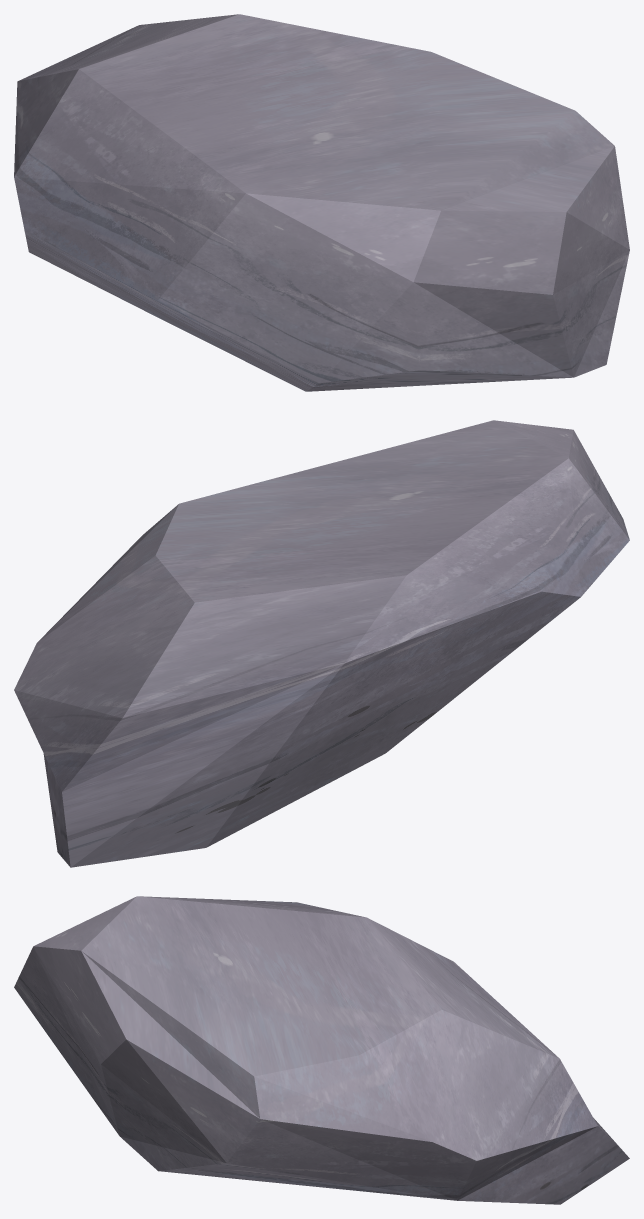
File: rock_2_013.fbx
3 views of the same model, one above another, from view 1: azimuth 30°, elevation 25°; view 2: azimuth 150°, elevation 25°; view 3: azimuth 270°, elevation 25° (orthographic). The views are drawn at different scales.
Visible parts, largest first — view 1: rock 2.013; view 2: rock 2.013; view 3: rock 2.013.
Part boxes in pixels (left/top/right/bottom): rock 2.013: left=14, top=14, right=629, bottom=391; rock 2.013: left=14, top=420, right=629, bottom=867; rock 2.013: left=14, top=896, right=629, bottom=1204.
Bounding box in the file's own units: 221 × 131 × 334.
